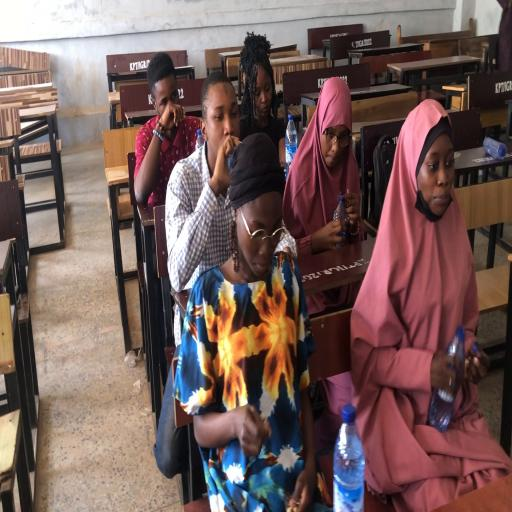Eating: (350, 96, 512, 509), (170, 134, 319, 506), (192, 100, 334, 478), (371, 71, 474, 441), (165, 77, 241, 315), (137, 24, 204, 264), (282, 76, 362, 244), (134, 52, 200, 212)
